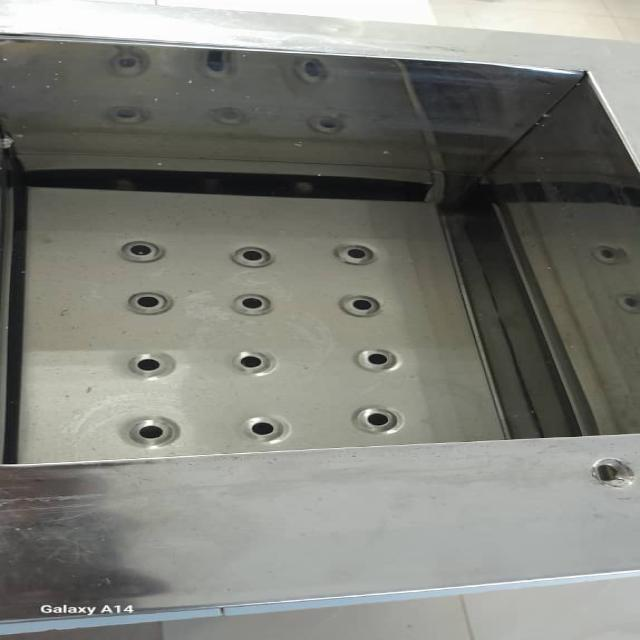Water-Oil Bath: (20, 61, 640, 458)
